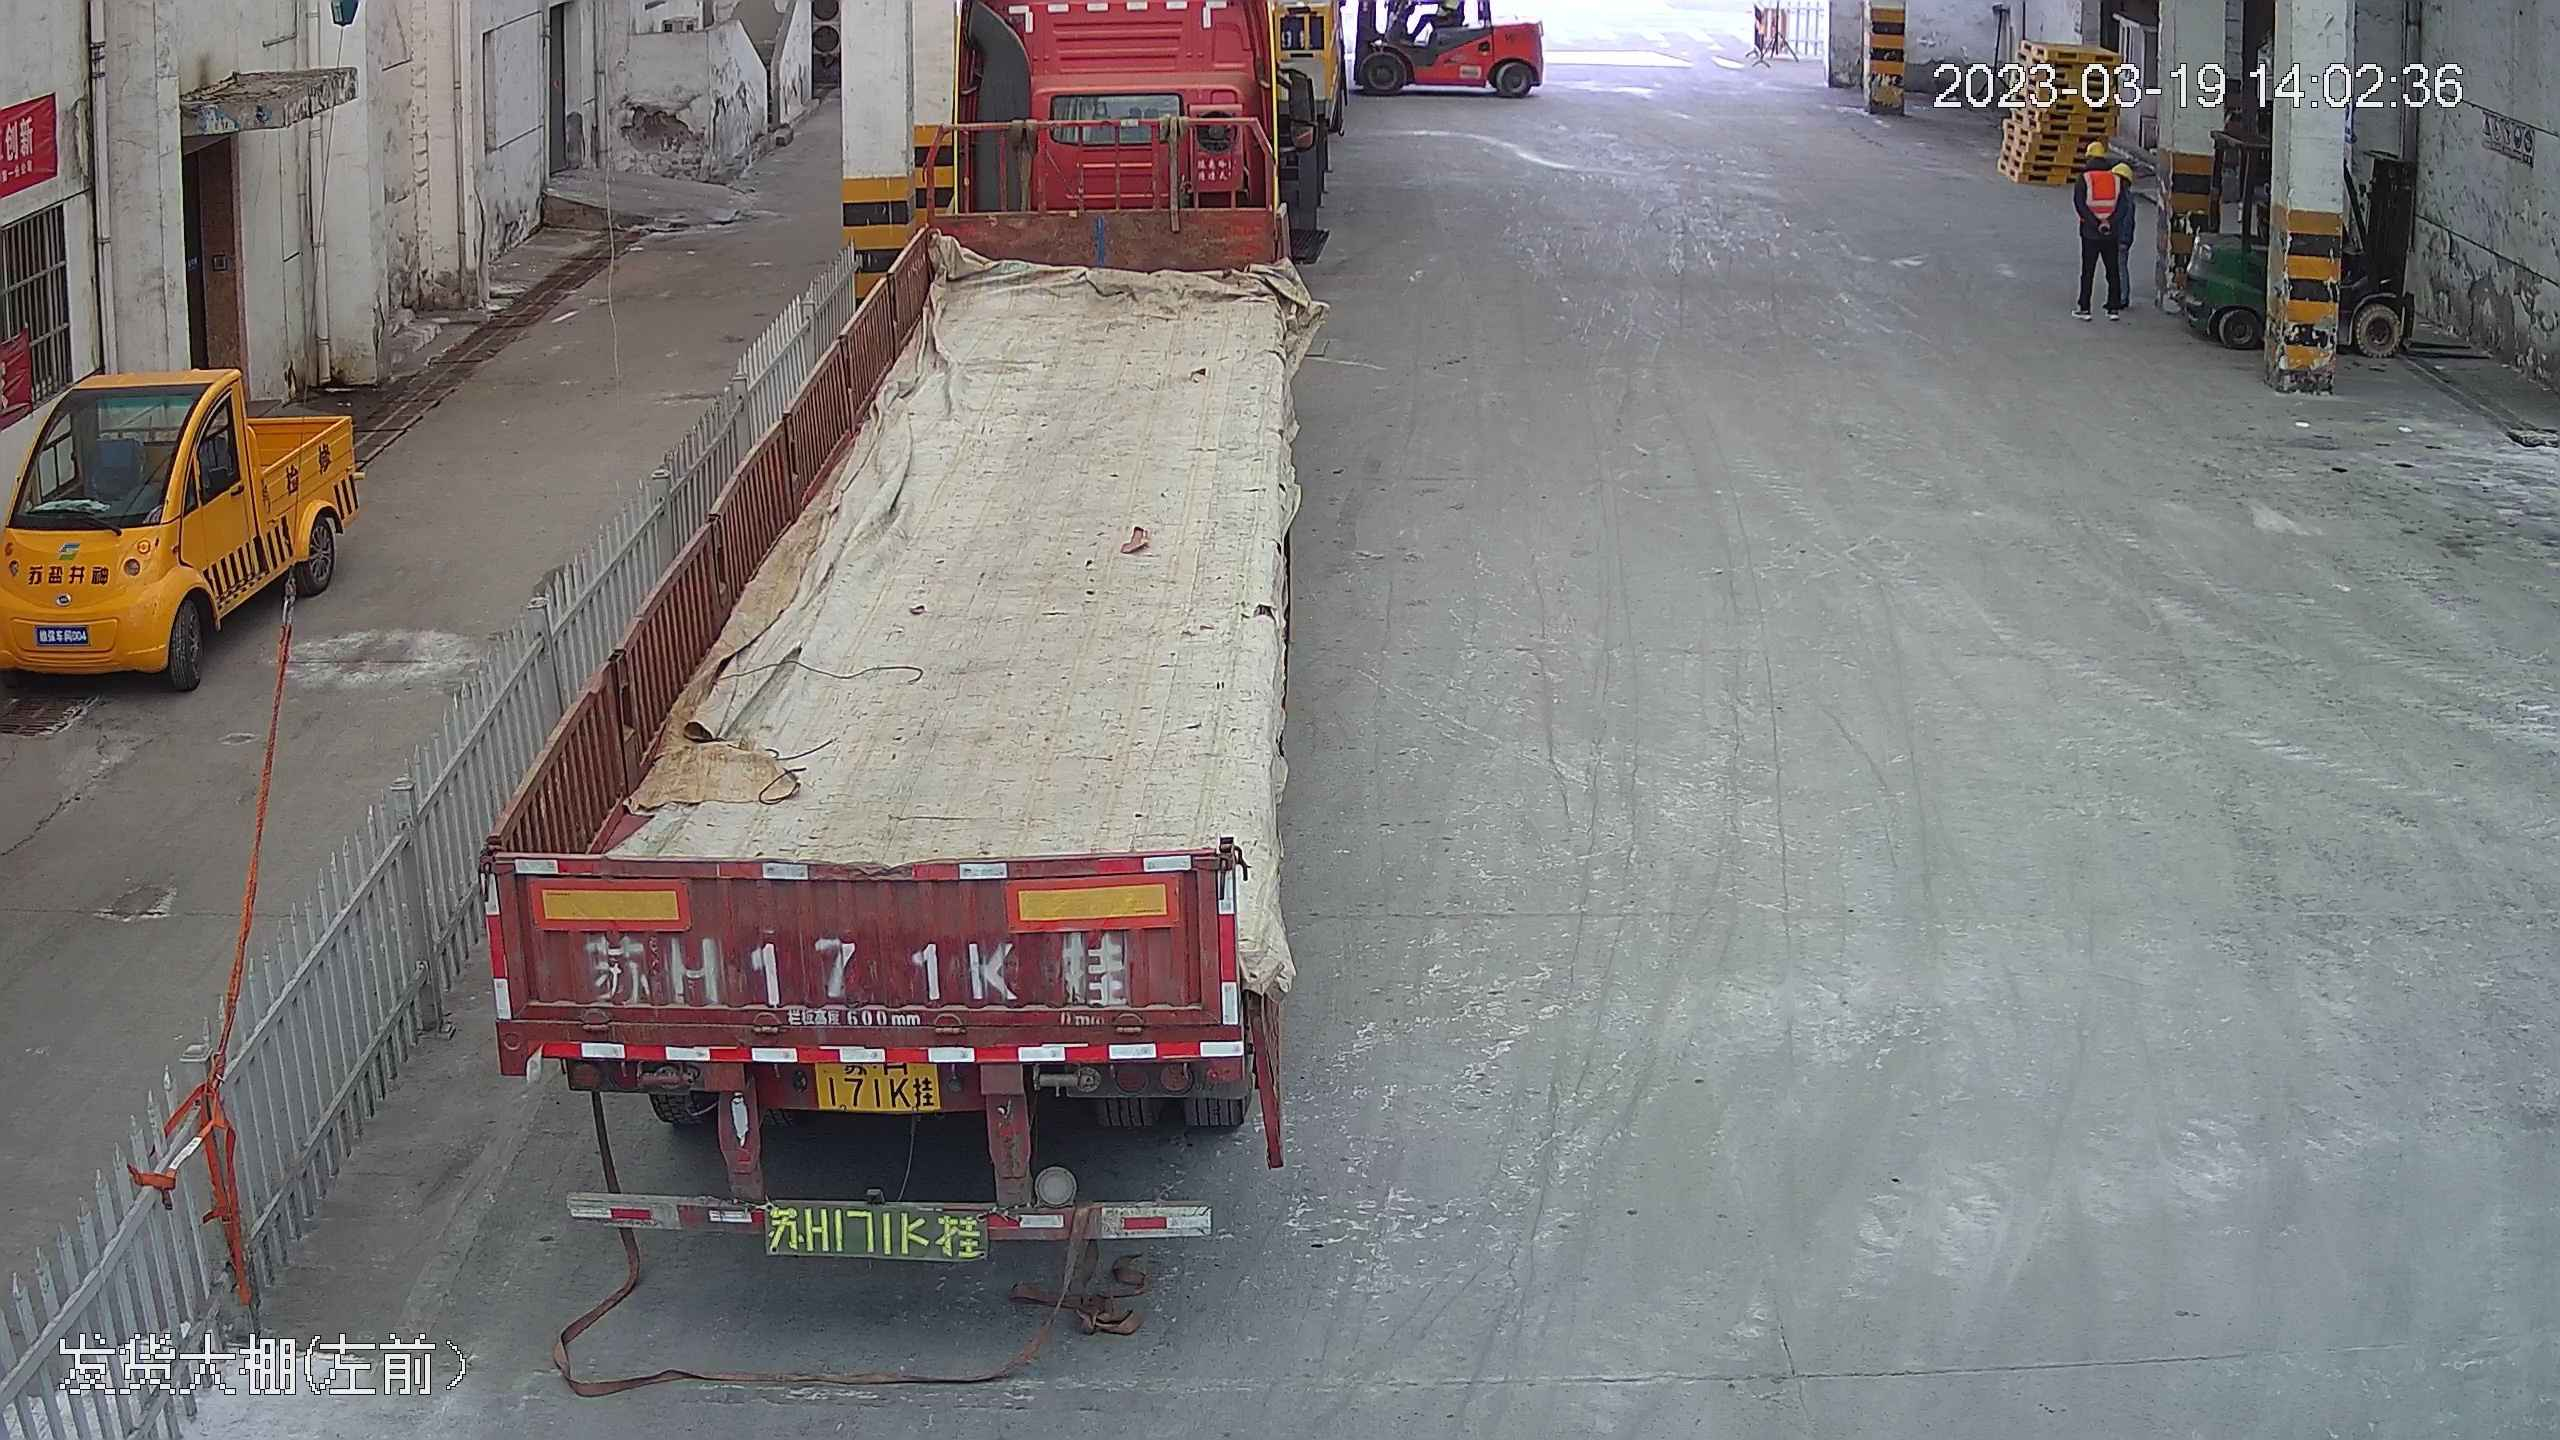head: (2077, 142, 2126, 193)
helmet: (2113, 161, 2135, 185), (2084, 141, 2108, 159)
people: (2070, 146, 2136, 318)
truck: (438, 1, 1308, 1293)
